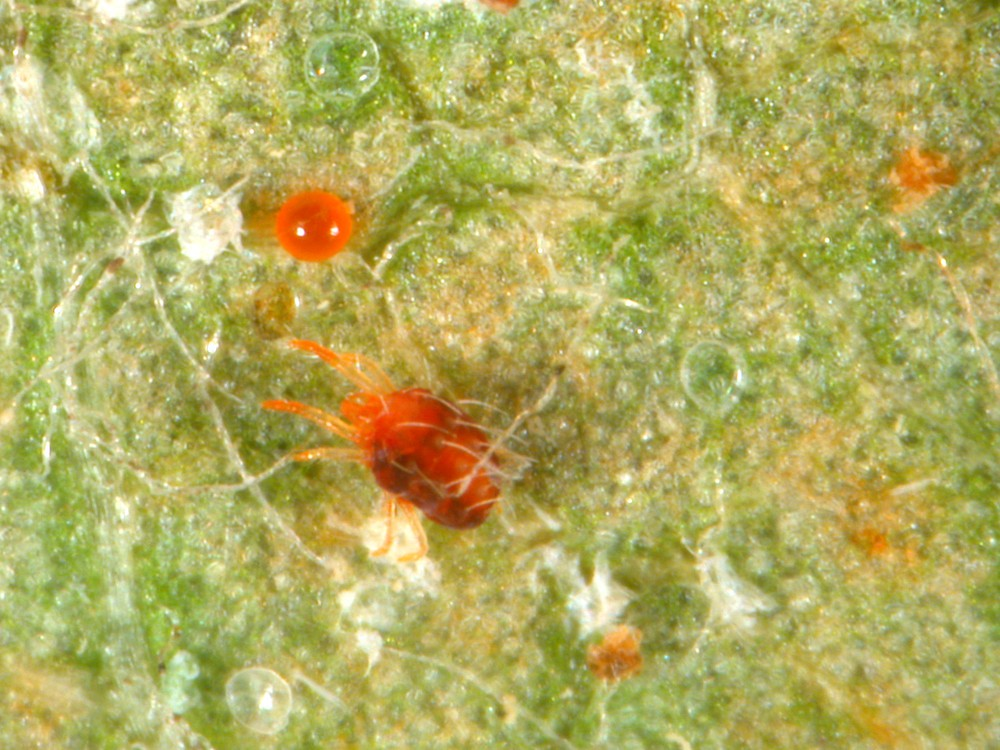Aracnido Rojo: (253, 326, 561, 577)
